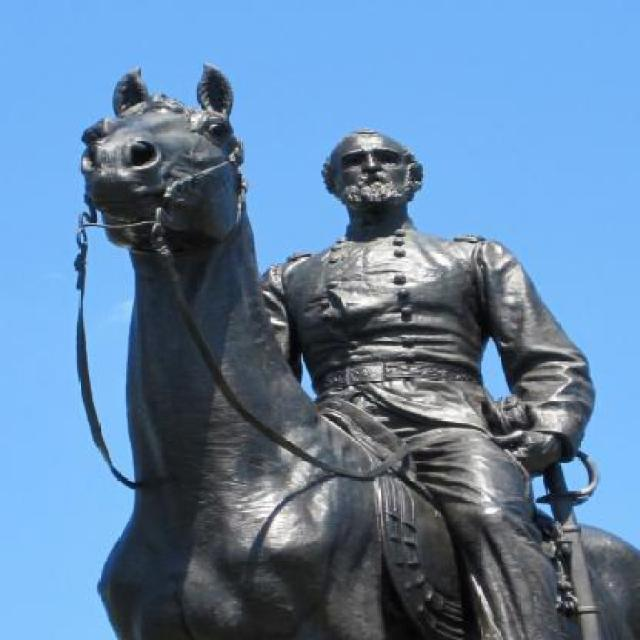Person: (259, 124, 603, 639)
